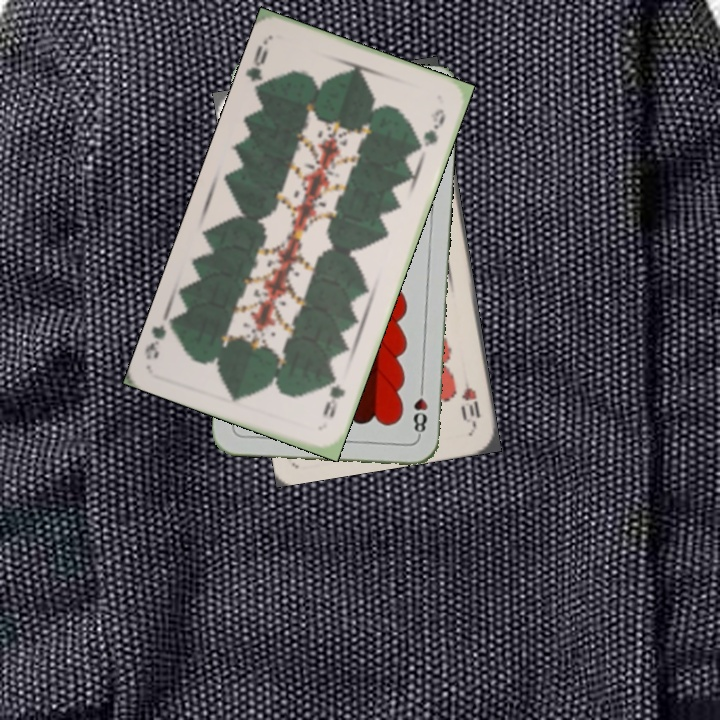G9: (243, 35, 271, 95), (318, 372, 348, 420)
H10: (458, 371, 483, 429)
H8: (409, 380, 430, 439)
